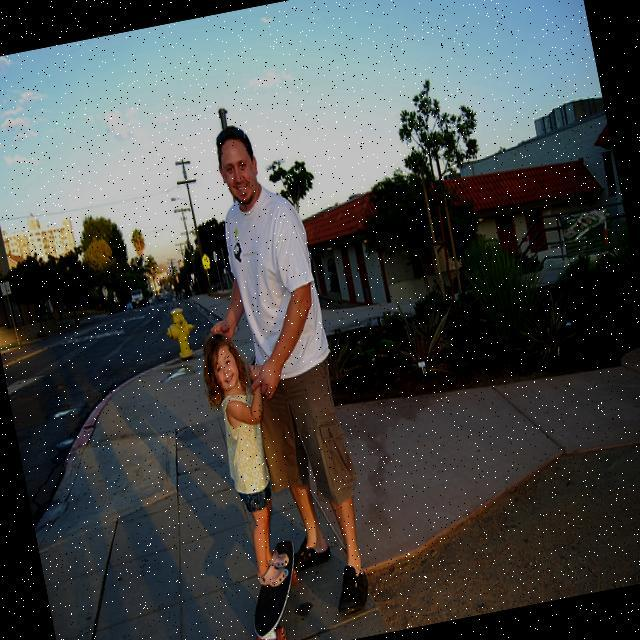fire_hydrant: (160, 303, 200, 362)
